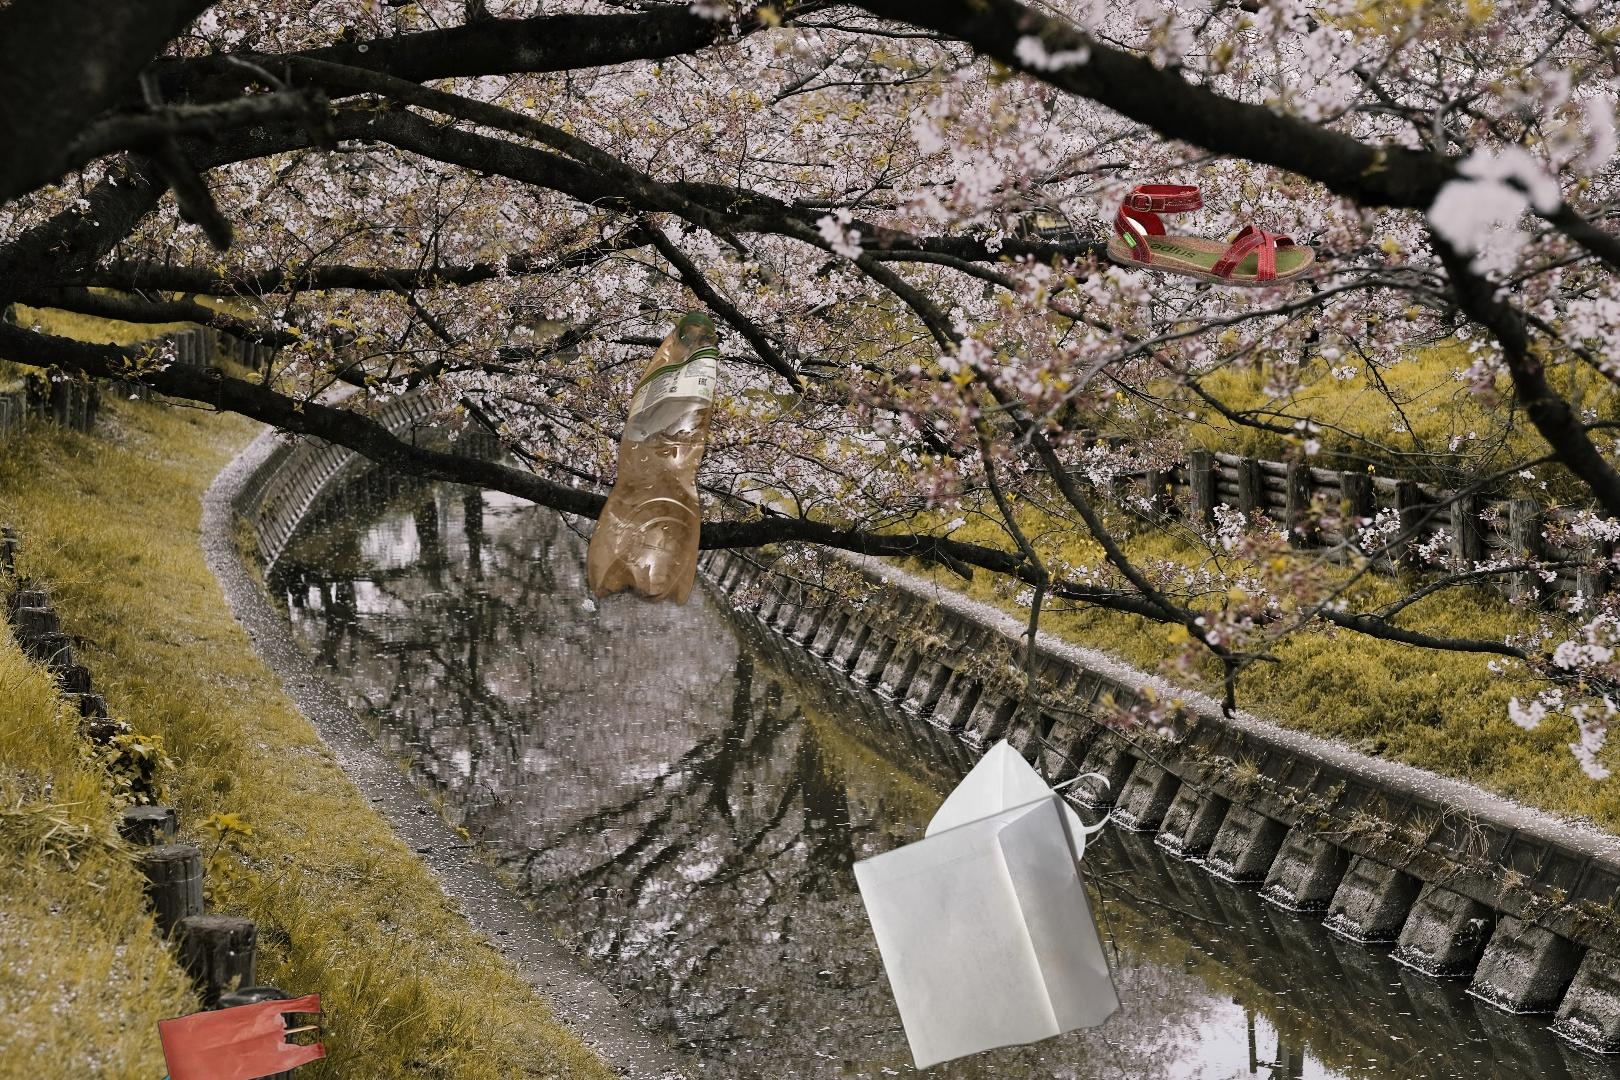biological: (1549, 843, 1620, 1080)
paper: (847, 791, 1128, 1073)
plastic-bag: (134, 991, 329, 1080)
plastic-bottles: (585, 306, 721, 611)
shoes: (1104, 180, 1319, 290)
trash: (893, 735, 1114, 904)
